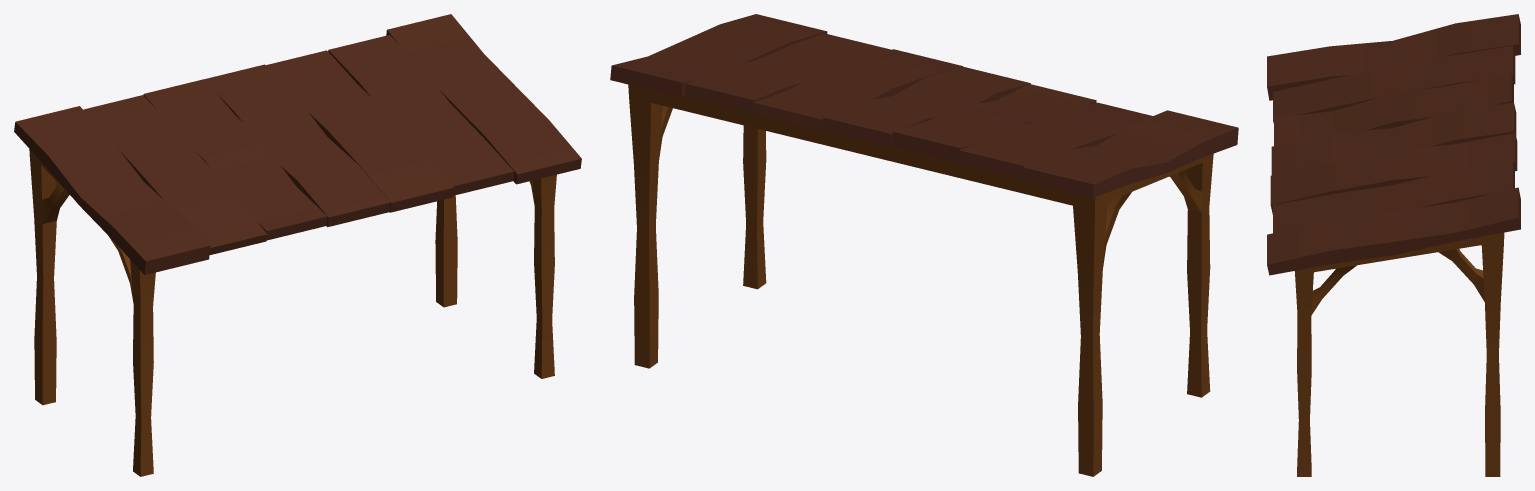
The model's file is Abri.FBX.
3 views of the same model, side by side, from view 1: azimuth 30°, elevation 25°; view 2: azimuth 150°, elevation 25°; view 3: azimuth 270°, elevation 25° (orthographic). The views are drawn at different scales.
Parts seen in each view (by area): view 1: Abri; view 2: Abri; view 3: Abri.
Part boxes in pixels (box(x1,y1,x2,y2)): Abri: box(14, 14, 581, 476); Abri: box(610, 14, 1238, 476); Abri: box(1267, 14, 1520, 476).
Size of the model in its own units: 289 by 174 by 152.
